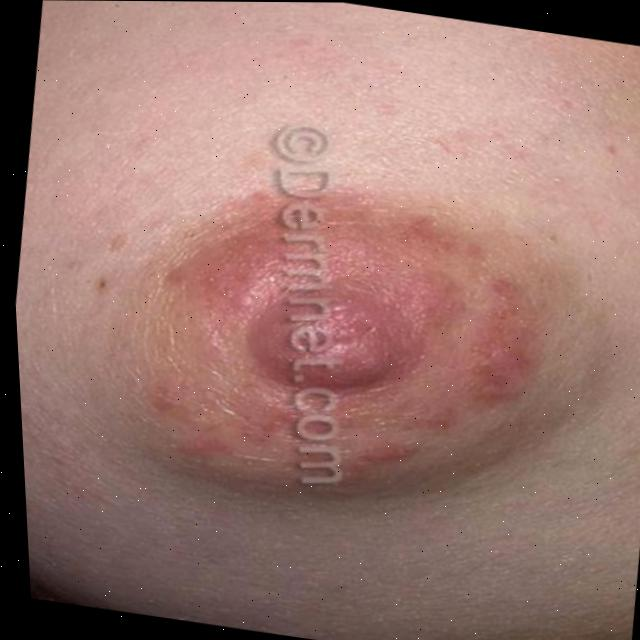Eczema: (112, 164, 561, 530)
